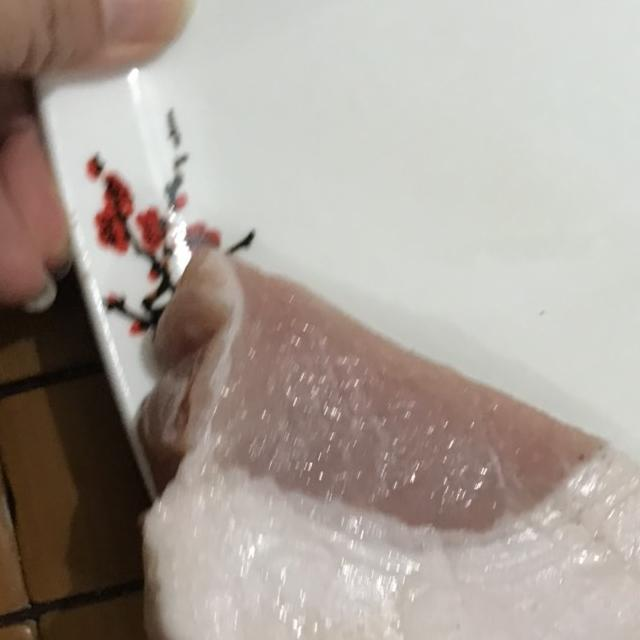pork: (0, 0, 640, 640), (138, 242, 640, 640)
